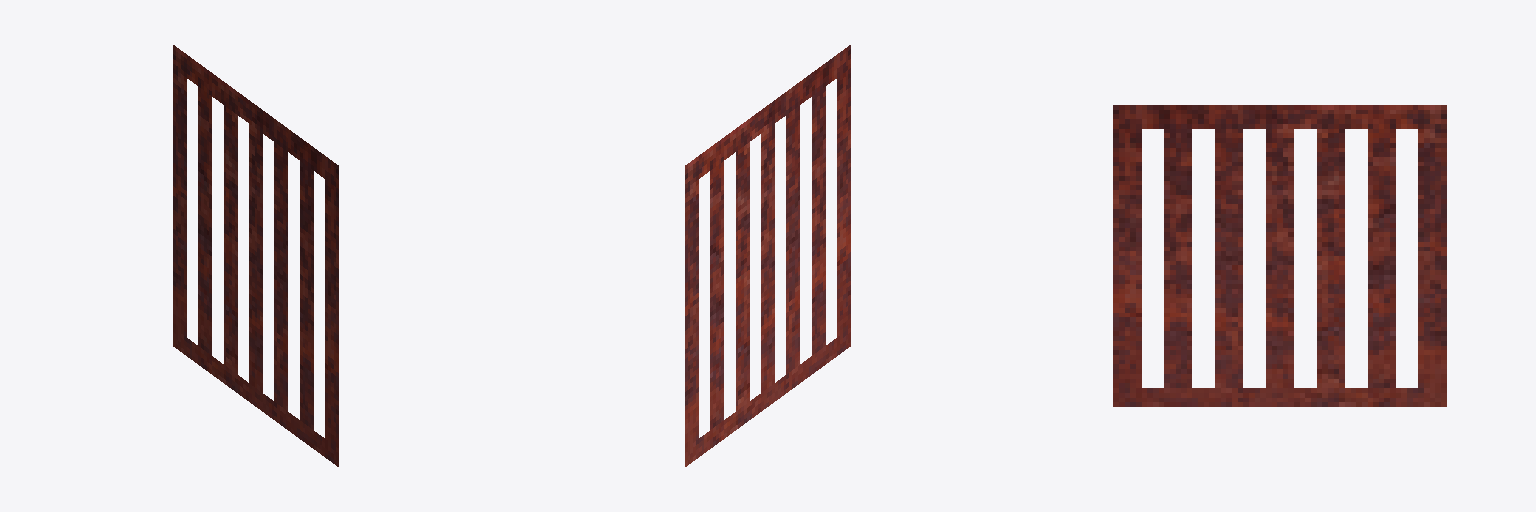
The picture shows the model from 3 angles: view 1: azimuth 30°, elevation 25°; view 2: azimuth 150°, elevation 25°; view 3: azimuth 270°, elevation 25°; orthographic projection.
Visible parts, largest first — view 1: Plane; view 2: Plane; view 3: Plane.
Part boxes in pixels (x1,y1,x2,y2): Plane: (173,45,338,466); Plane: (685,45,850,466); Plane: (1113,105,1446,406).
Bounding box in the file's own units: 0 × 2 × 2.
Materials: 1 (1 with a texture image).